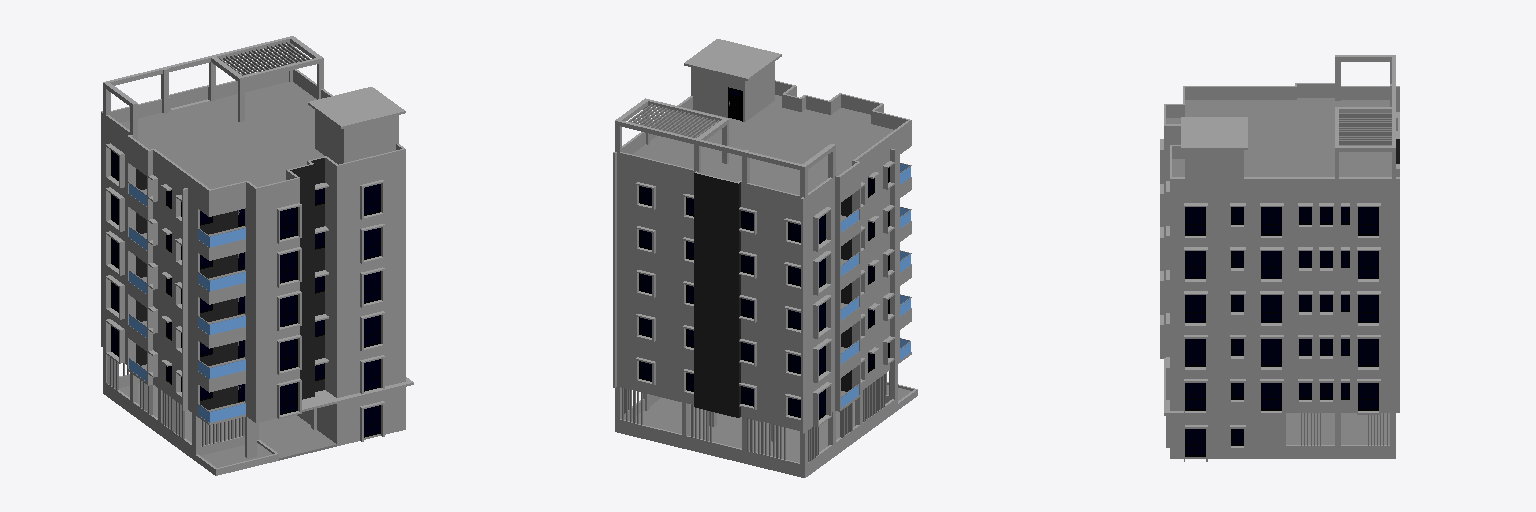
Rendered from road15.obj.
3 views of the same model, side by side, from view 1: azimuth 30°, elevation 25°; view 2: azimuth 150°, elevation 25°; view 3: azimuth 270°, elevation 25° (orthographic).
Visible parts, largest first — view 1: WALL, ROOF_1, GROUND_FLOOR_1, WINDOW, BALCONY, LOUVER, DOOR; view 2: WALL, ROOF_1, GROUND_FLOOR_1, LOUVER, WINDOW, BALCONY; view 3: WALL, ROOF_1, WINDOW, GROUND_FLOOR_1, LOUVER, GROUND_FLOOR_2.
Part boxes in pixels (x1,y1,x2,y2): WALL: (101, 125, 405, 422); ROOF_1: (101, 69, 405, 203); GROUND_FLOOR_1: (103, 348, 413, 475); WINDOW: (111, 150, 380, 414); BALCONY: (128, 182, 245, 424); LOUVER: (103, 36, 323, 446); DOOR: (238, 209, 244, 401); WALL: (613, 142, 899, 433); ROOF_1: (613, 39, 911, 211); GROUND_FLOOR_1: (615, 365, 917, 477); LOUVER: (615, 98, 889, 461); WINDOW: (639, 167, 889, 419); BALCONY: (841, 133, 911, 410); WALL: (1160, 100, 1399, 415); ROOF_1: (1164, 83, 1399, 191); WINDOW: (1185, 207, 1378, 410); GROUND_FLOOR_1: (1164, 358, 1395, 461); LOUVER: (1301, 55, 1395, 445); GROUND_FLOOR_2: (1185, 429, 1243, 456).
Bounding box in the file's own units: 20.09 × 30.04 × 20.89.